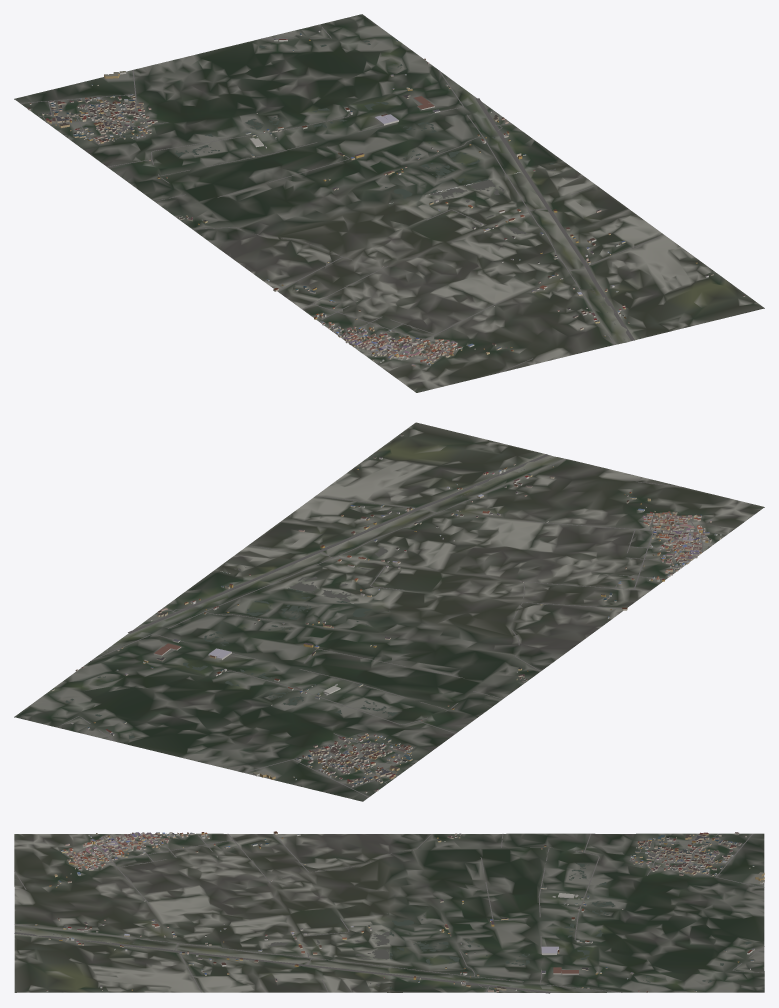
The picture shows the model from 3 angles, top to bottom: view 1: azimuth 30°, elevation 25°; view 2: azimuth 150°, elevation 25°; view 3: azimuth 270°, elevation 25°; orthographic projection. The views are drawn at different scales.
Visible parts, largest first — view 1: ground, buildings, roads, water; view 2: ground, buildings, roads, water; view 3: ground, buildings, roads, water.
Boxes of the visible parts, bbox=[...] form: ground: bbox=[14, 14, 764, 392]; buildings: bbox=[27, 30, 745, 366]; roads: bbox=[20, 27, 664, 373]; water: bbox=[175, 31, 626, 353]; ground: bbox=[14, 422, 764, 801]; buildings: bbox=[51, 434, 721, 793]; roads: bbox=[60, 454, 709, 797]; water: bbox=[44, 457, 709, 738]; ground: bbox=[14, 833, 764, 992]; buildings: bbox=[35, 831, 764, 992]; roads: bbox=[14, 833, 764, 993]; water: bbox=[16, 834, 751, 988].
Bounding box in the file's own units: 1418 × 17.82 × 2808.
